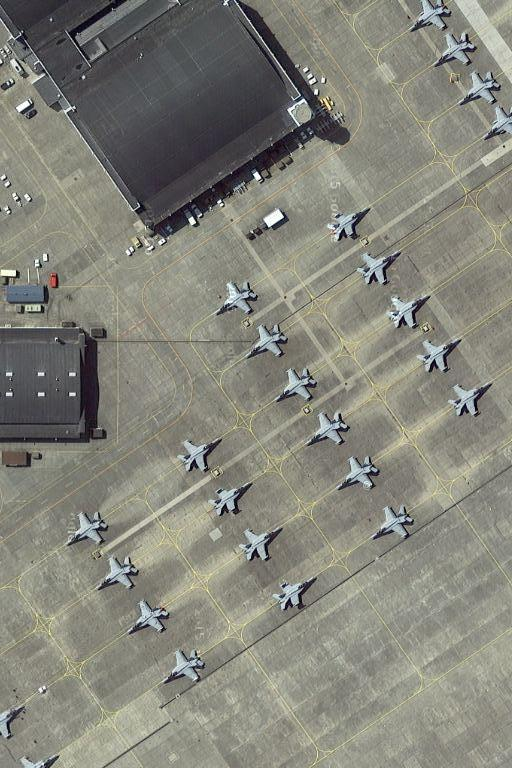F/A-18: (203, 276, 259, 320), (320, 203, 374, 247), (240, 319, 290, 366), (301, 408, 353, 453), (155, 645, 207, 690), (411, 332, 464, 376), (90, 550, 141, 595), (353, 246, 406, 289), (332, 453, 383, 497), (173, 434, 224, 478), (382, 290, 434, 333), (367, 501, 415, 547), (235, 522, 285, 566), (455, 66, 502, 112), (270, 363, 317, 408), (444, 380, 494, 421), (268, 574, 319, 614), (207, 476, 254, 519), (63, 508, 110, 550), (123, 598, 170, 639), (431, 30, 478, 69), (405, 2, 452, 32), (478, 103, 509, 147)
